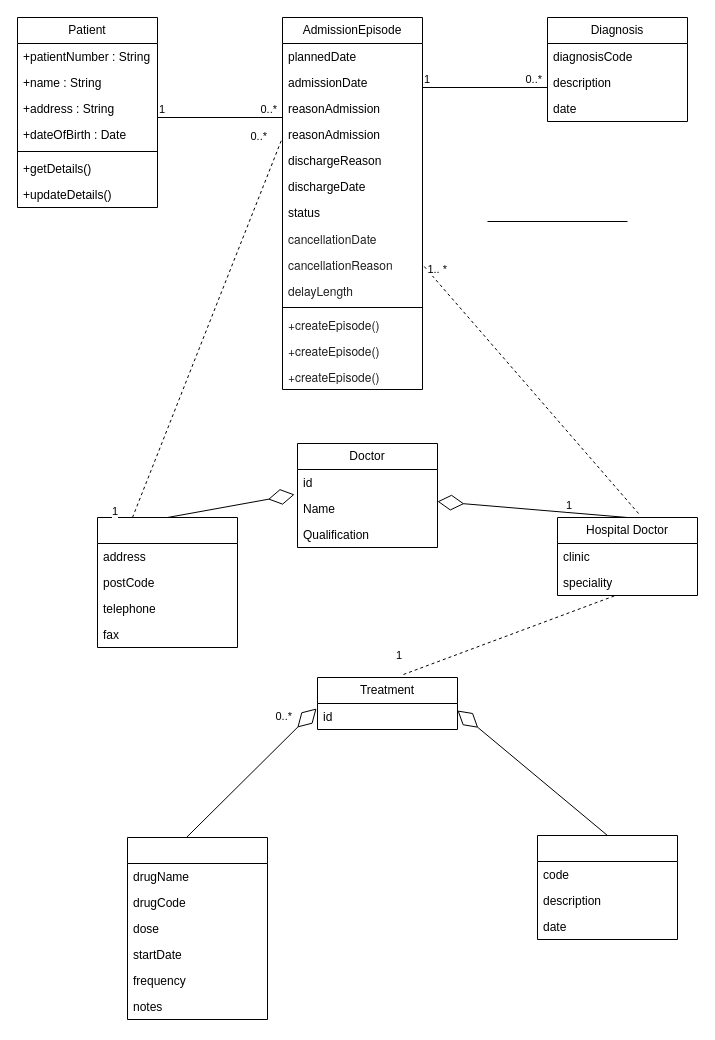
Image size: 715x1040. Some labels were removed from this diagram. The shapes that lost their labels are listed below. From the top down, each one's box as (x1, y1, x2, y2) in pixels, then its label:
(96, 516, 238, 648): Community Doctor
(536, 834, 678, 940): Surgery
(126, 836, 268, 1020): Medication
